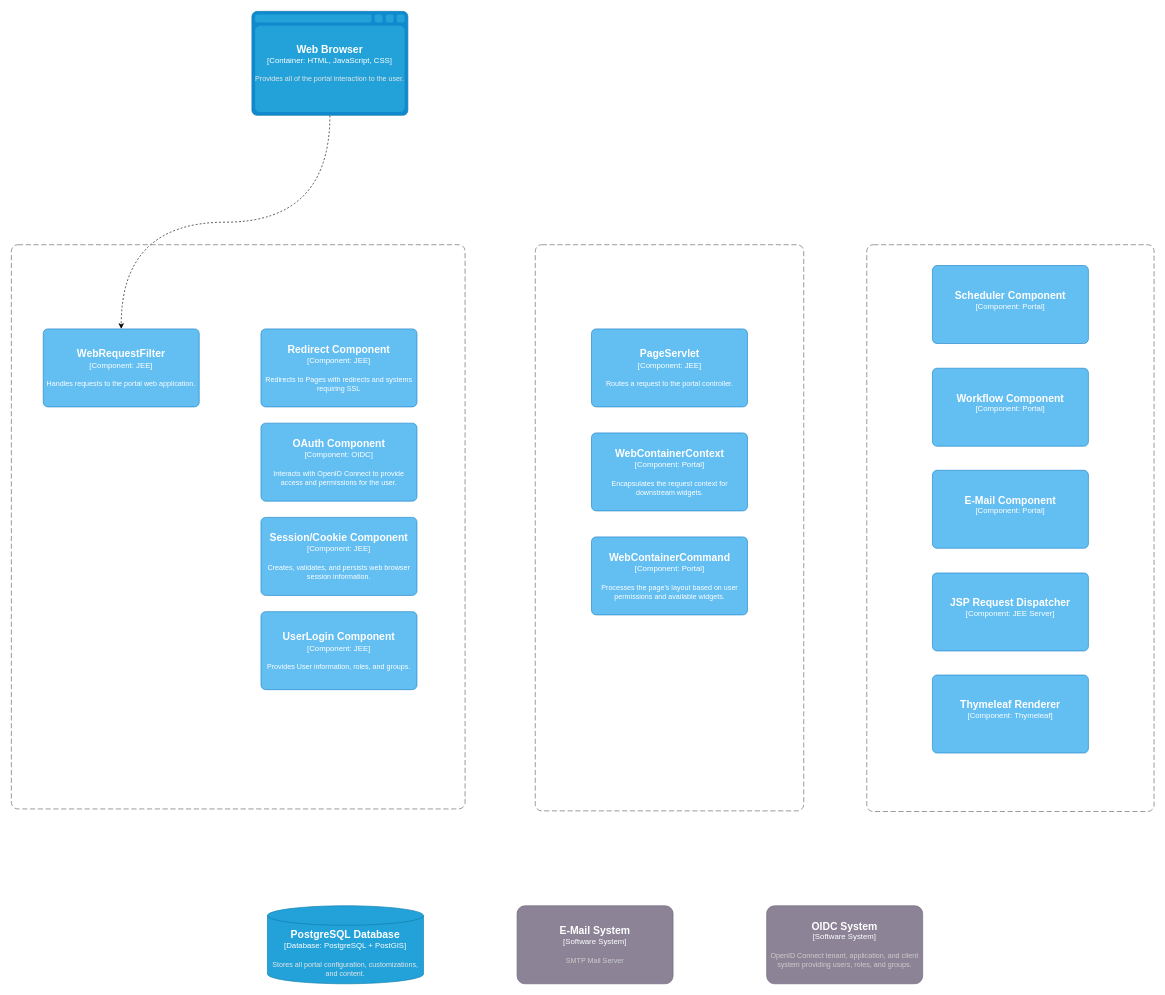
Image size: 1165x995. Some labels were removed from this diagram. The shapes that lost their labels are listed below. From the top down, each one's box as (x1, y1, x2, y2) in pixels, then its label:
(11, 244, 465, 809): Web Request Framework [Container]
(535, 244, 804, 811): Page Request Framework [Container]
(866, 244, 1154, 812): Application Framework [Container]
